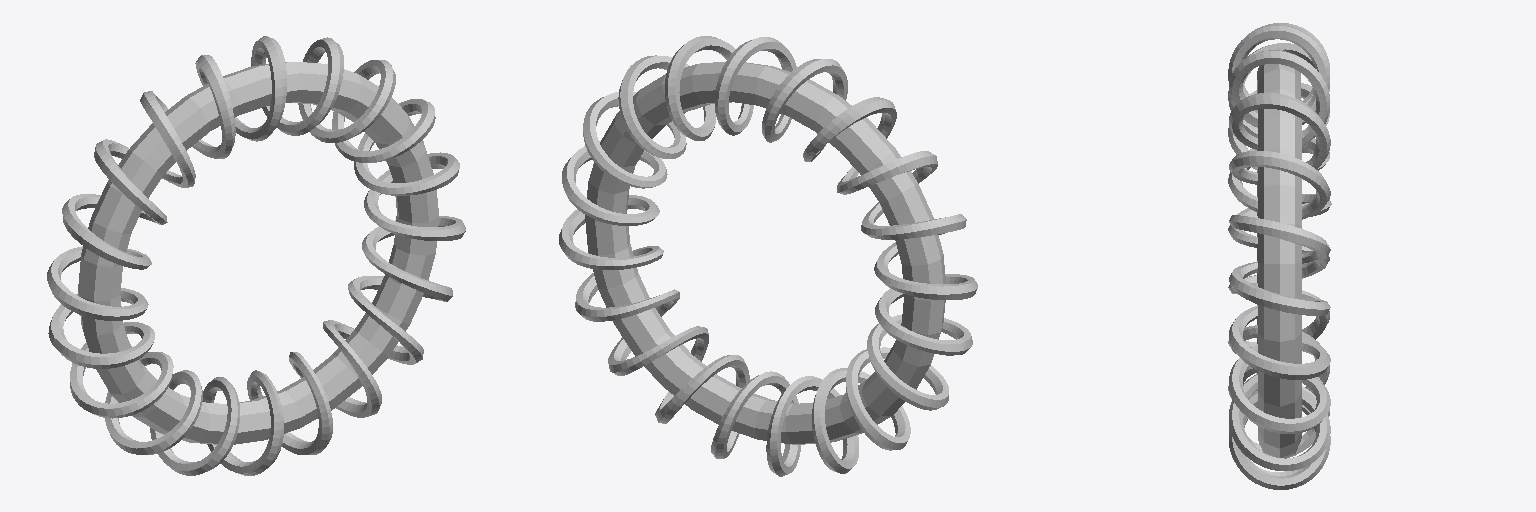
Rendered from spiralTorus.obj.
3 views of the same model, side by side, from view 1: azimuth 30°, elevation 25°; view 2: azimuth 150°, elevation 25°; view 3: azimuth 270°, elevation 25° (orthographic).
Visible parts, largest first — view 1: spiralTorus; view 2: spiralTorus; view 3: spiralTorus.
Part boxes in pixels (left/top/right/bottom): spiralTorus: left=47, top=36, right=465, bottom=475; spiralTorus: left=559, top=36, right=977, bottom=476; spiralTorus: left=1228, top=23, right=1331, bottom=489.
Bounding box in the file's own units: 0.996 × 0.9952 × 0.2197.